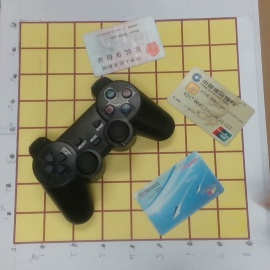card: (134, 150, 225, 237), (166, 63, 256, 144), (82, 16, 162, 81)
remote: (29, 76, 175, 228)
